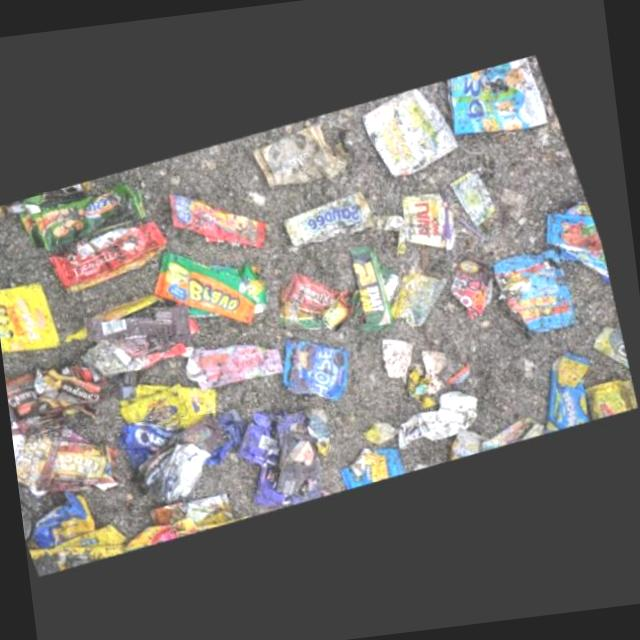bao_bi_thuc_pham: (223, 410, 343, 512), (85, 295, 198, 376), (13, 414, 122, 496), (28, 183, 157, 252), (57, 221, 175, 292), (372, 91, 467, 179), (458, 60, 559, 138), (122, 495, 252, 554), (499, 250, 583, 338), (5, 360, 114, 427), (261, 124, 357, 189), (176, 193, 277, 249), (31, 524, 132, 578), (291, 192, 380, 250), (551, 209, 617, 286), (0, 281, 70, 352), (123, 382, 223, 431), (190, 345, 289, 391), (30, 492, 107, 551), (284, 342, 358, 403), (453, 419, 549, 464), (546, 354, 595, 437), (356, 247, 401, 334), (400, 194, 462, 257), (340, 440, 410, 492), (0, 181, 103, 216), (454, 174, 506, 234), (455, 258, 503, 323), (588, 381, 640, 424), (598, 329, 635, 375)
